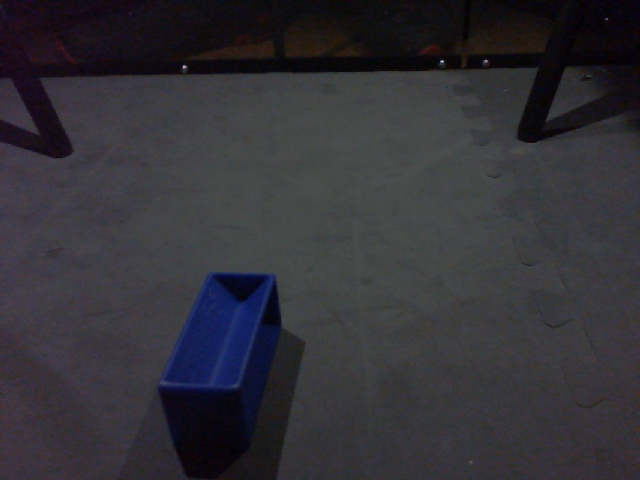BlueSample: (157, 272, 287, 445)
